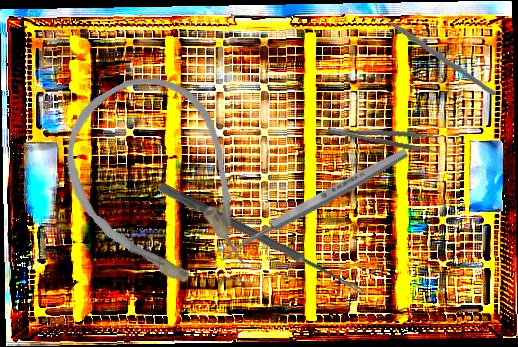Cannula: (38, 53, 281, 320)
Chopper: (370, 0, 501, 96)
Dressing Forceps: (327, 116, 441, 155)
Surgical Spoon: (157, 182, 368, 297), (215, 145, 410, 263)
